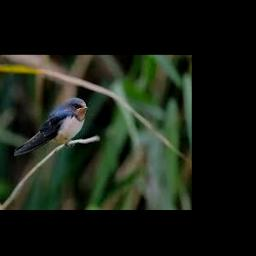Swallow: (11, 98, 87, 156)
